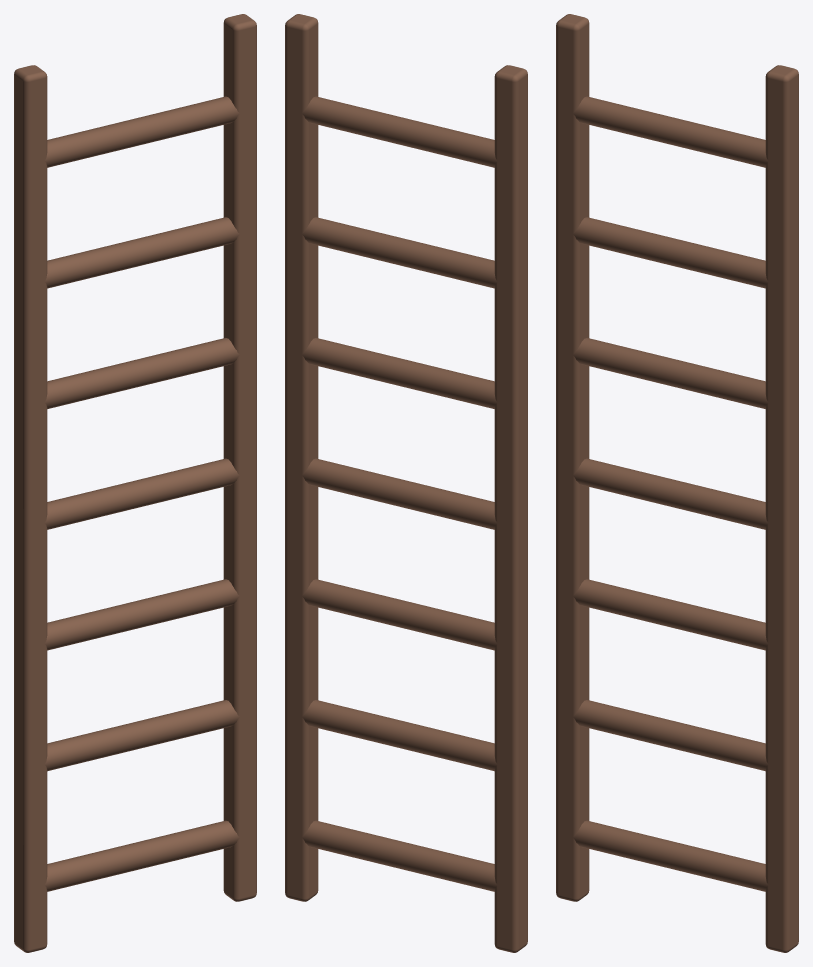
The model's file is griffin-airmail-roost-and-posthouse-beacon-service-lad-29d6a5c4__30538.glb.
3 views of the same model, side by side, from view 1: azimuth 30°, elevation 25°; view 2: azimuth 150°, elevation 25°; view 3: azimuth 330°, elevation 25° (orthographic).
Visible parts, largest first — view 1: beacon-service-ladder; view 2: beacon-service-ladder; view 3: beacon-service-ladder.
Part boxes in pixels (<box>): beacon-service-ladder: <box>14,14,256,952</box>; beacon-service-ladder: <box>285,14,527,952</box>; beacon-service-ladder: <box>556,14,798,952</box>.
Bounding box in the file's own units: 0.445 × 1.6 × 0.0449.
